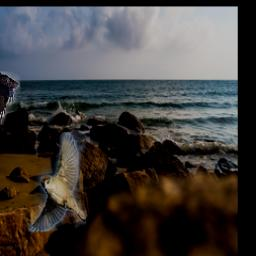Crow: (0, 71, 20, 125)
Sparrow: (27, 133, 86, 233)
